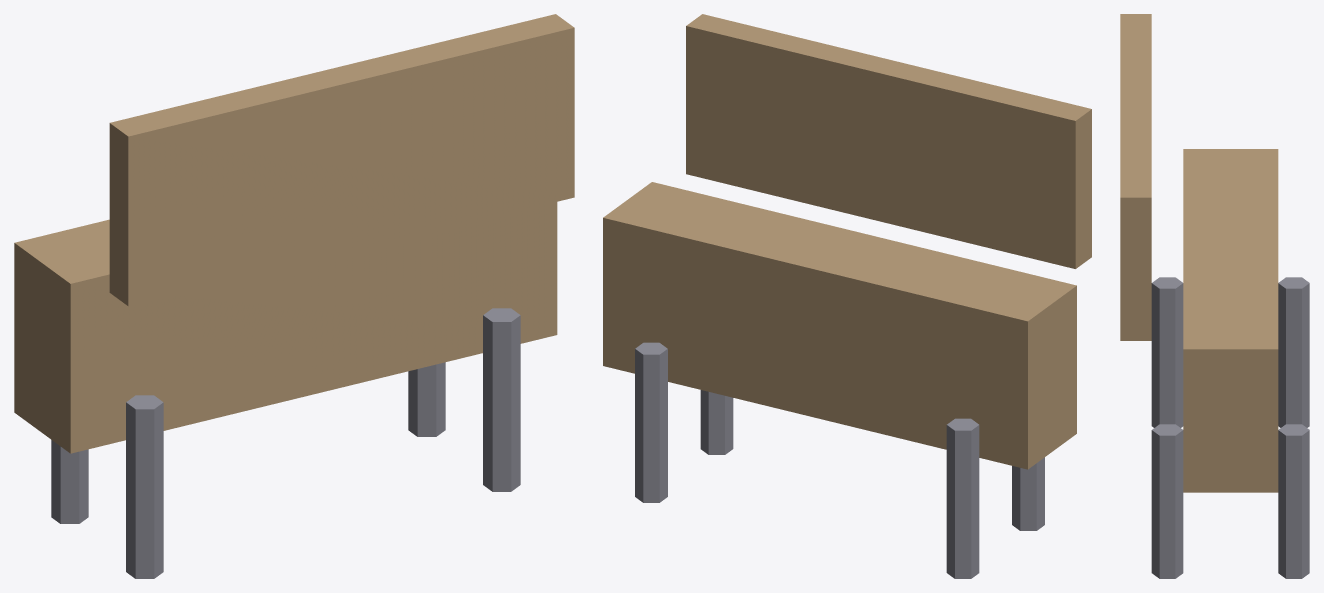
Rendered from bench.glb.
The picture shows the model from 3 angles, left to right: view 1: azimuth 30°, elevation 25°; view 2: azimuth 150°, elevation 25°; view 3: azimuth 270°, elevation 25°; orthographic projection. The views are drawn at different scales.
Visible parts, largest first — view 1: bench; view 2: bench; view 3: bench.
Boxes of the visible parts, <box> form: bench: <box>14,14,574,578</box>; bench: <box>603,14,1091,578</box>; bench: <box>1120,14,1309,578</box>.
Size of the model in its own units: 0.6 by 0.55 by 0.24.
